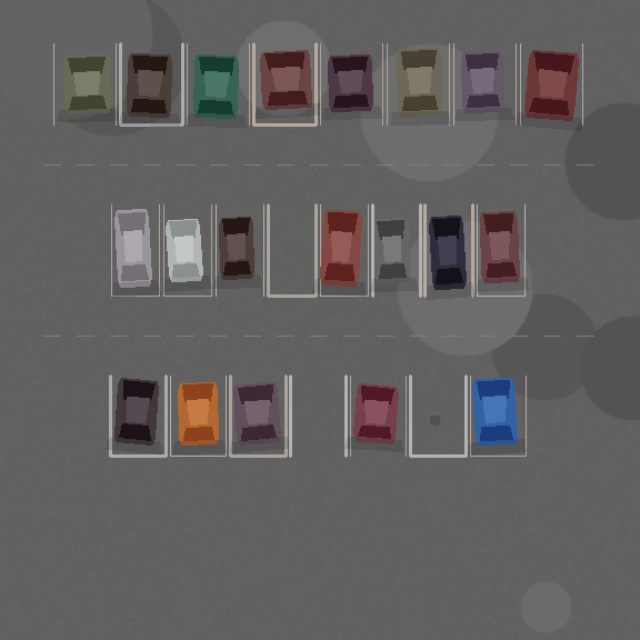space-empty: (290, 376, 346, 456), (410, 376, 466, 456), (268, 204, 316, 296)
space-occupied: (53, 43, 116, 124), (253, 43, 316, 124), (453, 43, 516, 124), (120, 43, 182, 124), (187, 43, 249, 124), (320, 43, 382, 124), (387, 43, 449, 124), (520, 43, 582, 124), (110, 376, 166, 456), (170, 376, 226, 456), (230, 376, 286, 456), (350, 376, 406, 456), (470, 376, 526, 456), (111, 204, 159, 296), (163, 204, 211, 296), (320, 204, 368, 296), (372, 204, 420, 296), (424, 204, 472, 296), (216, 204, 263, 296), (477, 204, 524, 296)
